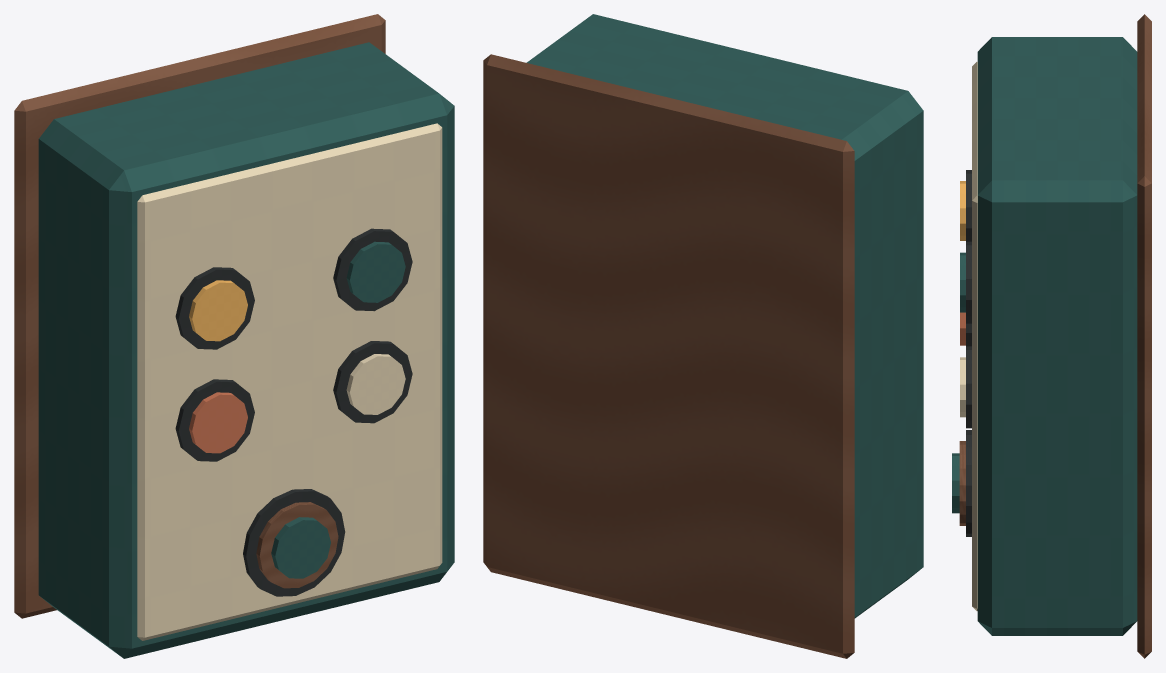
Rendered from I04_atlas_v1.glb.
3 views of the same model, side by side, from view 1: azimuth 30°, elevation 25°; view 2: azimuth 150°, elevation 25°; view 3: azimuth 270°, elevation 25° (orthographic). The views are drawn at different scales.
Parts seen in each view (by area): view 1: I04_StaticBody, I04_Dial_Teal_Knob, I04_Indicator_3_Lens, I04_Indicator_1_Lens, I04_Indicator_2_Lens, I04_Indicator_4_Lens; view 2: I04_StaticBody; view 3: I04_StaticBody, I04_Dial_Teal_Knob, I04_Indicator_2_Lens, I04_Indicator_4_Lens, I04_Indicator_1_Lens.
Part boxes in pixels (box(x1,y1,x2,y2)): I04_StaticBody: box(14, 14, 454, 658); I04_Dial_Teal_Knob: box(271, 517, 330, 578); I04_Indicator_3_Lens: box(189, 392, 247, 453); I04_Indicator_1_Lens: box(189, 280, 247, 341); I04_Indicator_2_Lens: box(346, 241, 405, 302); I04_Indicator_4_Lens: box(346, 354, 405, 414); I04_StaticBody: box(483, 14, 923, 658); I04_StaticBody: box(959, 14, 1151, 658); I04_Dial_Teal_Knob: box(952, 453, 959, 513); I04_Indicator_2_Lens: box(960, 252, 965, 312); I04_Indicator_4_Lens: box(960, 357, 965, 417); I04_Indicator_1_Lens: box(960, 181, 965, 240).
Size of the model in its own units: 3 by 4 by 1.5.
1 material, 1 textured.
